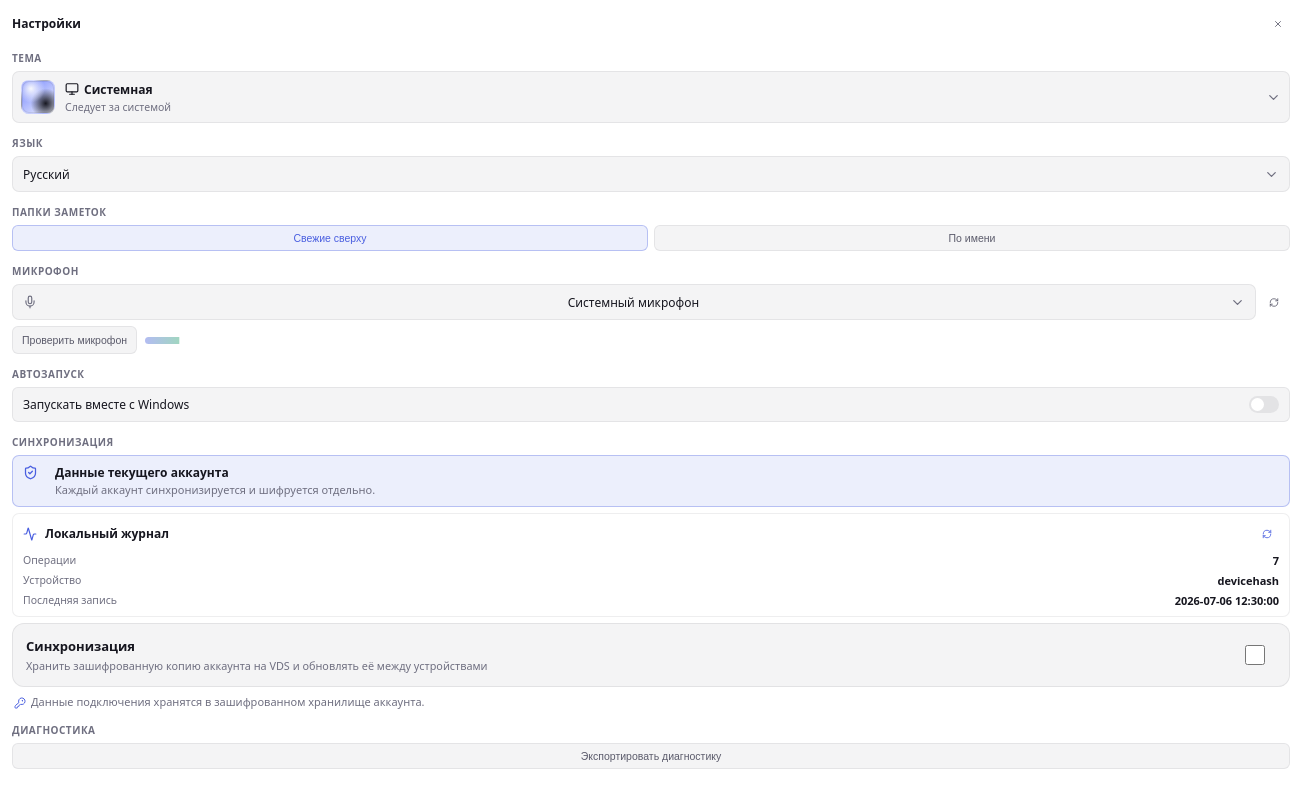
Scenario: SettingsPanel › switches the UI language when a language option is clicked
Check: the text "Настройки" is shown, box [12,18,81,30]
Click the button with aria-label "Язык": [46, 174] box [12,156,1290,192]
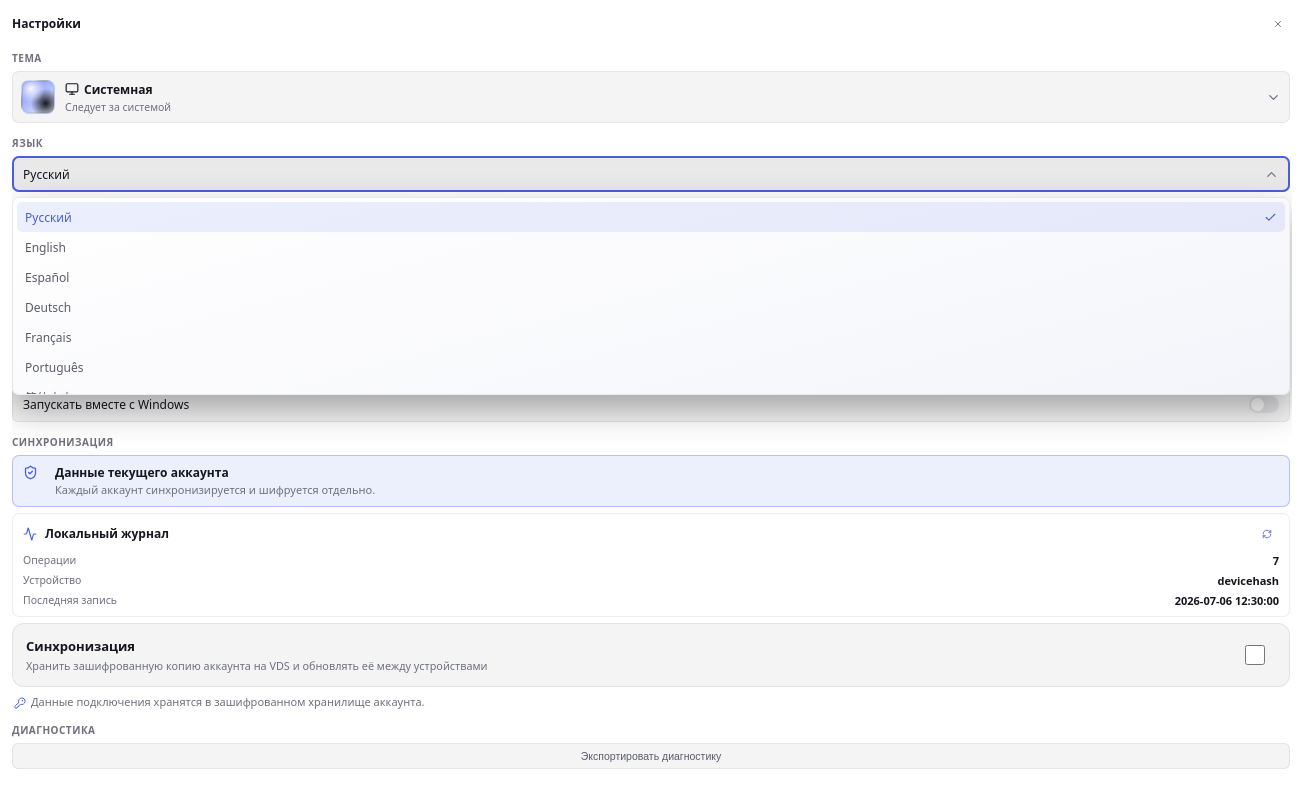
Click the option "English": [45, 247] box [17,232,1285,262]
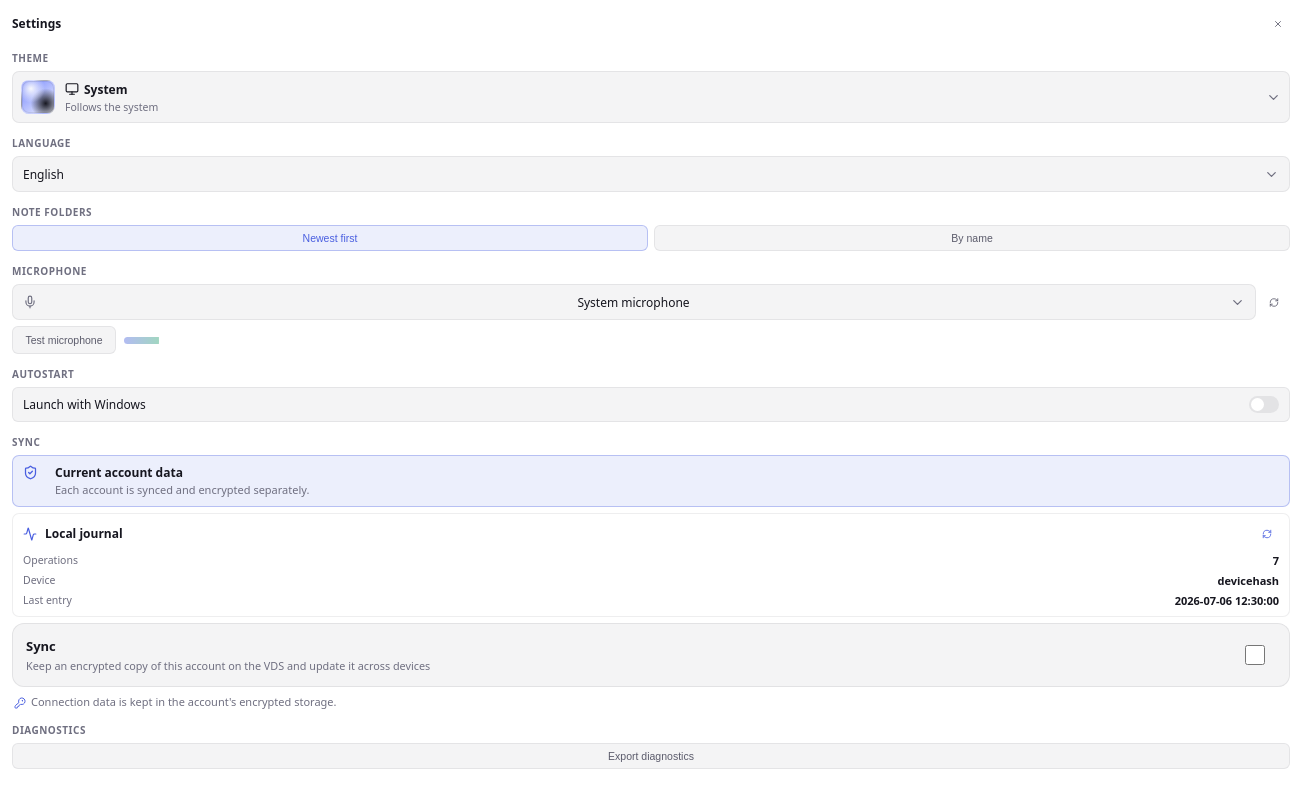
Check: the text "Settings" is shown, box [12,18,61,30]
